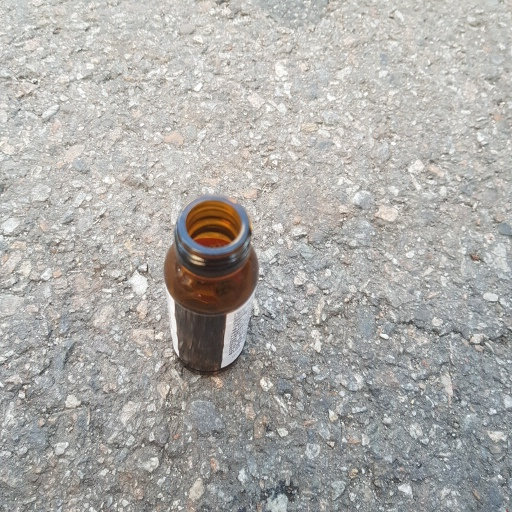Glass_3: (155, 192, 267, 380)
